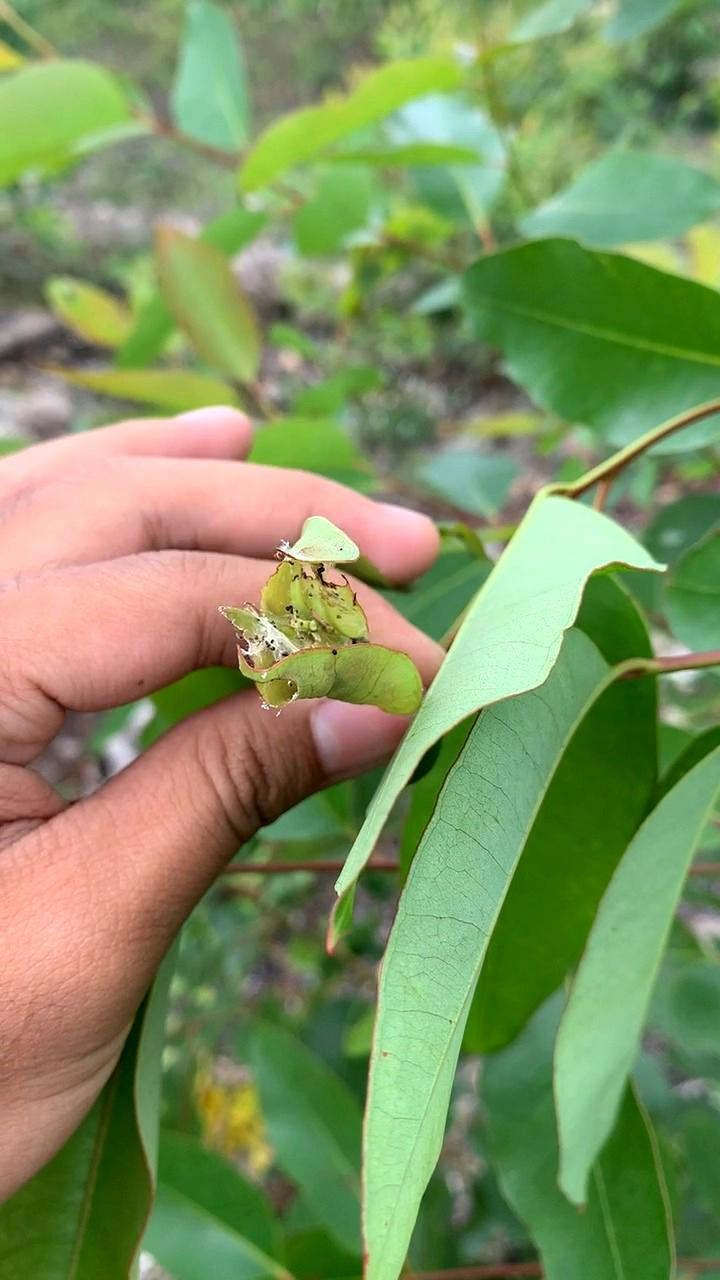Leaf Roller - Leaf: (205, 496, 428, 740)
